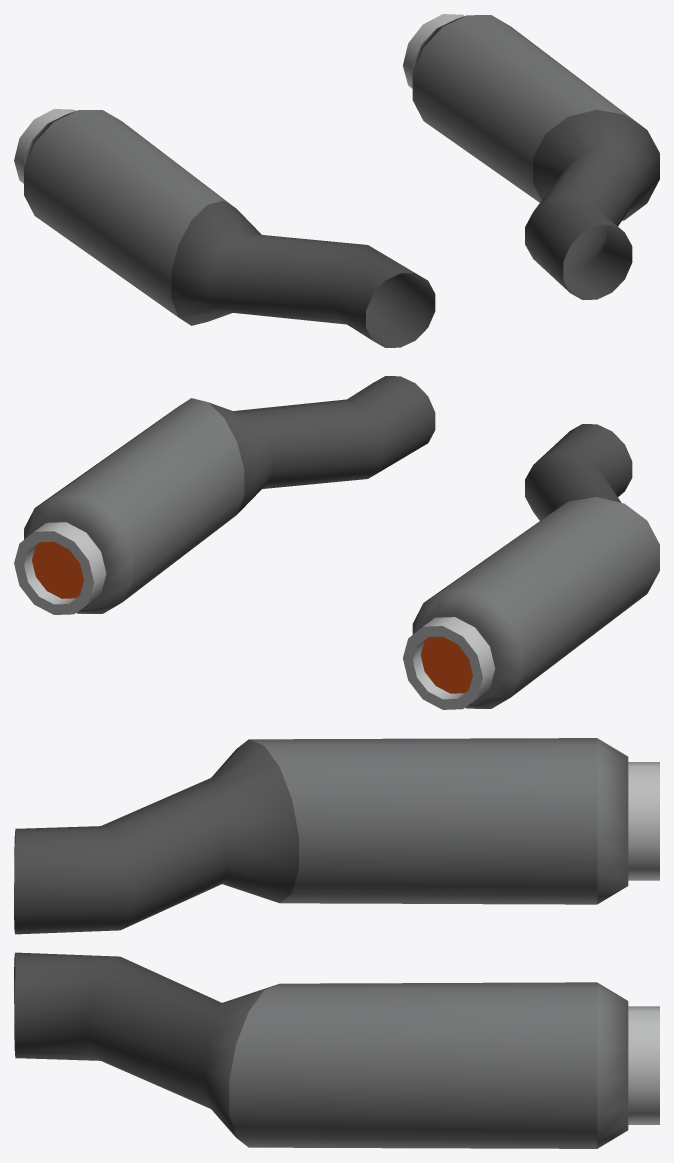
File: Car_04_Pipe_Cool.fbx
3 renders of one model, top to bottom at view 1: azimuth 30°, elevation 25°; view 2: azimuth 150°, elevation 25°; view 3: azimuth 270°, elevation 25°, orthographic. The views are drawn at different scales.
Visible parts, largest first — view 1: Car_04_Pipe_Cool; view 2: Car_04_Pipe_Cool; view 3: Car_04_Pipe_Cool.
Boxes of the visible parts, x1,y1,x2,y2 form: Car_04_Pipe_Cool: (14,14,659,347); Car_04_Pipe_Cool: (14,376,659,709); Car_04_Pipe_Cool: (14,738,659,1148).
Size of the model in its own units: 104 by 90.5 by 23.34.
